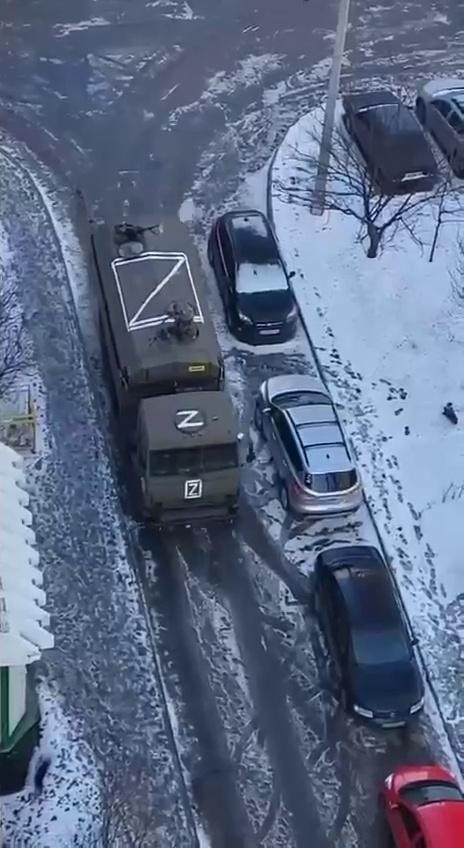car: (313, 544, 427, 734), (258, 374, 364, 520), (210, 209, 300, 344), (342, 89, 440, 194), (383, 765, 464, 848), (416, 78, 464, 178)
truck: (88, 216, 258, 534)
